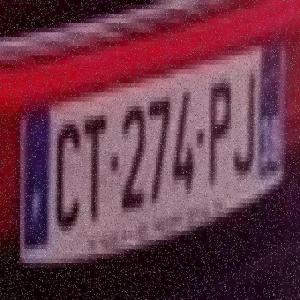Plate: (20, 47, 290, 247)
